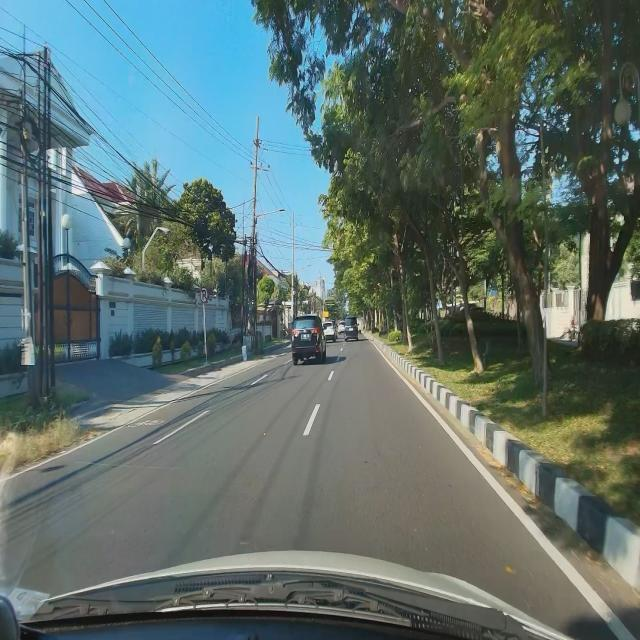car: (290, 312, 328, 367)
